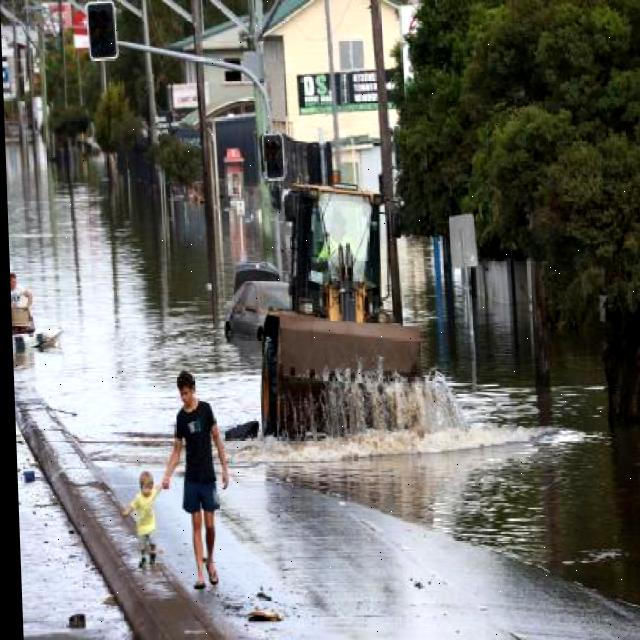civilian: (158, 361, 239, 600), (112, 461, 171, 586)
